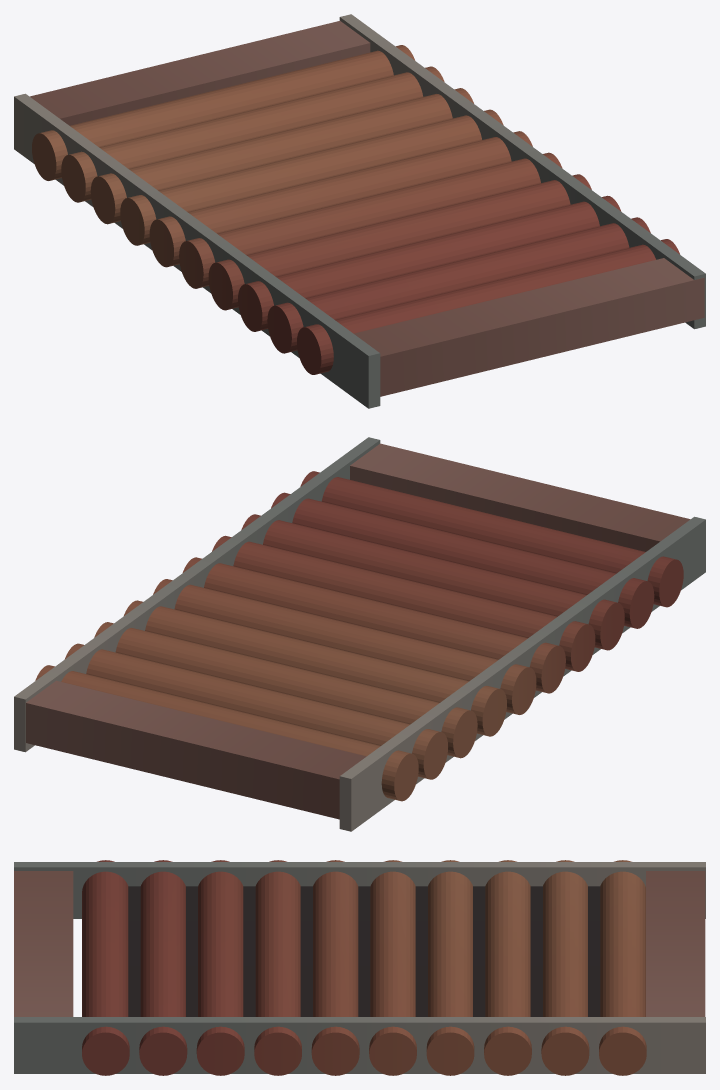
The model's file is BridgeRoad.fbx.
The picture shows the model from 3 angles, top to bottom: view 1: azimuth 30°, elevation 25°; view 2: azimuth 150°, elevation 25°; view 3: azimuth 270°, elevation 25°; orthographic projection. The views are drawn at different scales.
Visible parts, largest first — view 1: MainPart, Conectors, SideParts; view 2: MainPart, Conectors, SideParts; view 3: MainPart, SideParts, Conectors.
Part boxes in pixels (x1,y1,x2,y2): MainPart: (32, 45, 679, 374); Conectors: (30, 21, 704, 396); SideParts: (14, 14, 705, 408); MainPart: (35, 471, 683, 801); Conectors: (26, 443, 690, 819); SideParts: (14, 437, 705, 831); MainPart: (82, 860, 646, 1075); SideParts: (14, 862, 705, 1073); Conectors: (14, 871, 705, 1016).
Bounding box in the file's own units: 887 × 124 × 1504.
